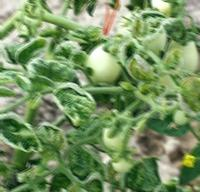Tomato leaf yellow virus: (49, 82, 99, 125), (0, 111, 43, 153), (53, 36, 102, 72), (29, 55, 79, 79), (178, 74, 200, 125), (30, 122, 66, 153)
